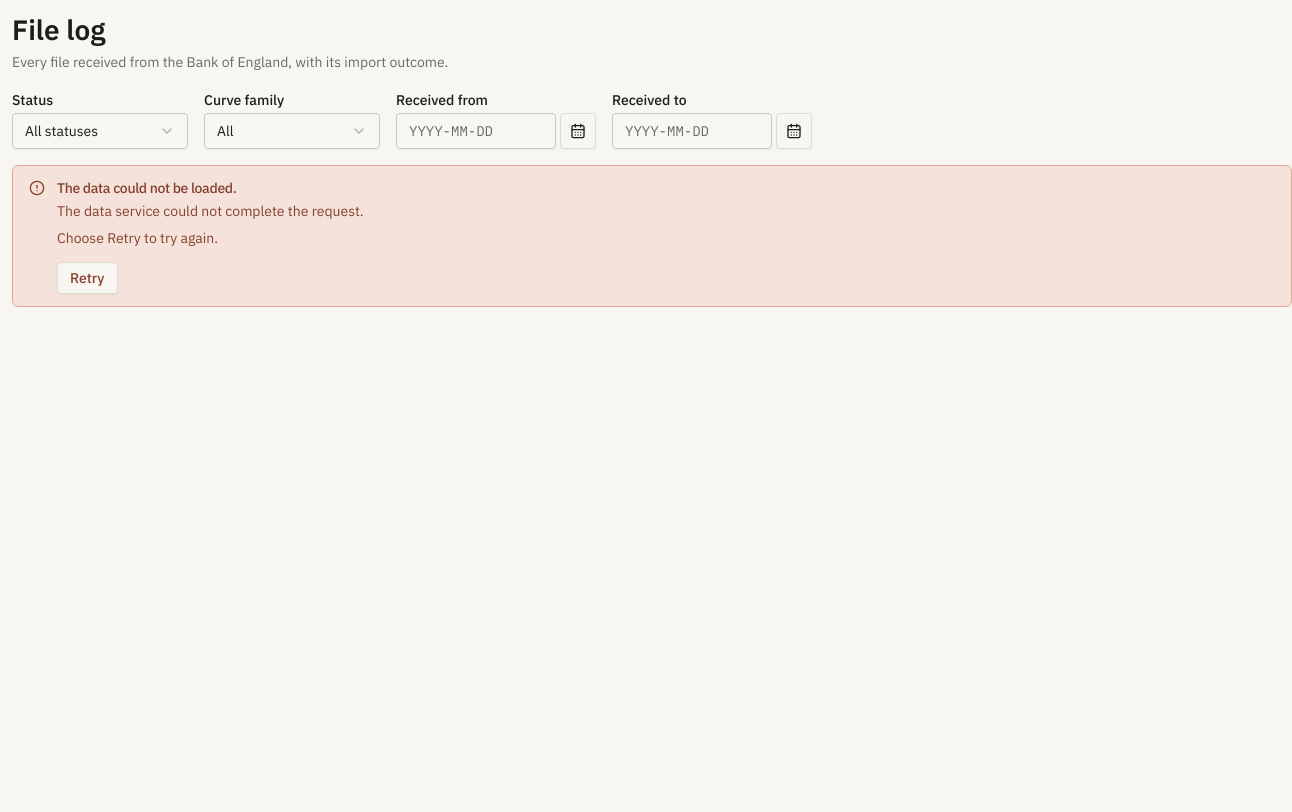
Epic file-log, Story 1: File log table › shows a persistent error with Retry when the list cannot load, and Retry reloads it
expect the text "The data service could not complete the request." is shown: met, box [57,200,364,223]
Step 1. Click the button "Retry" → (87,278), box [57,262,118,294]
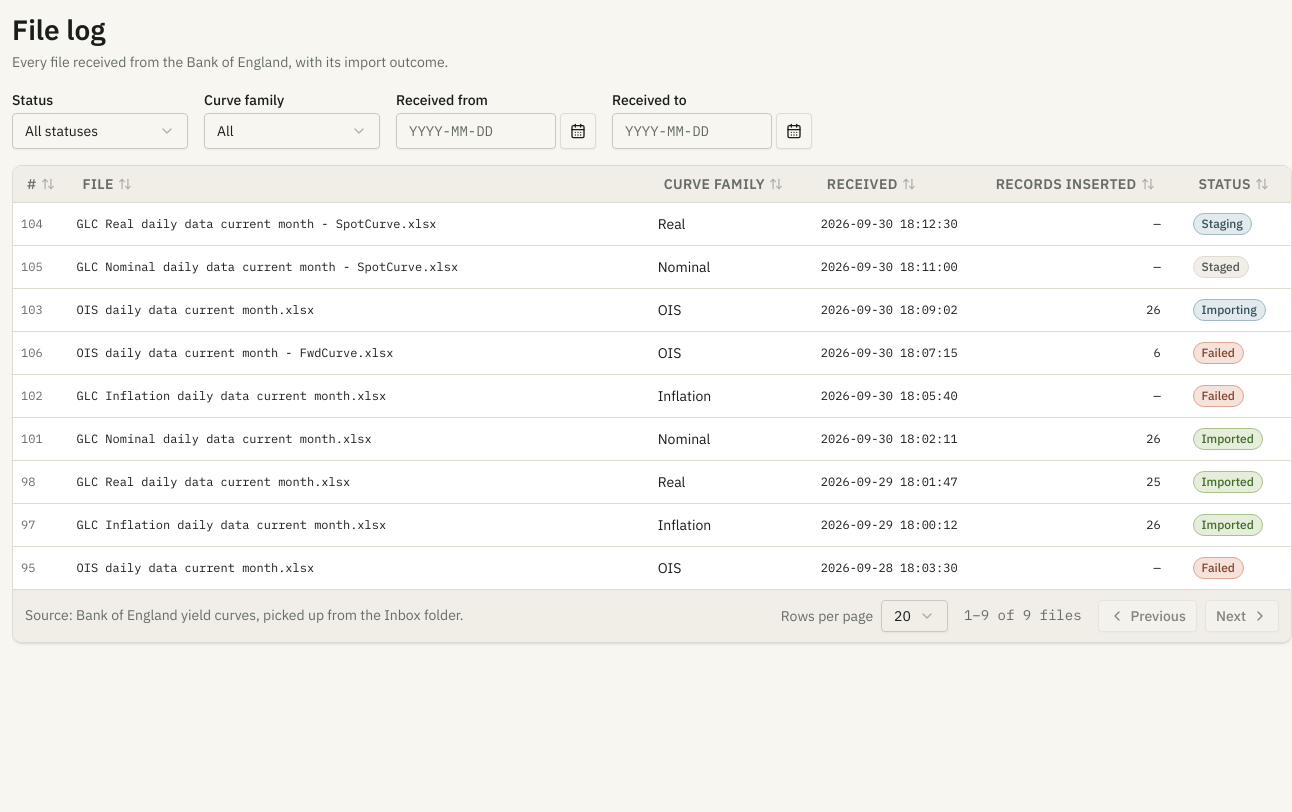
expect the text "GLC Nominal daily data current month.xlsx" is shown: met, box [68,417,642,460]
expect the message is gone: met
